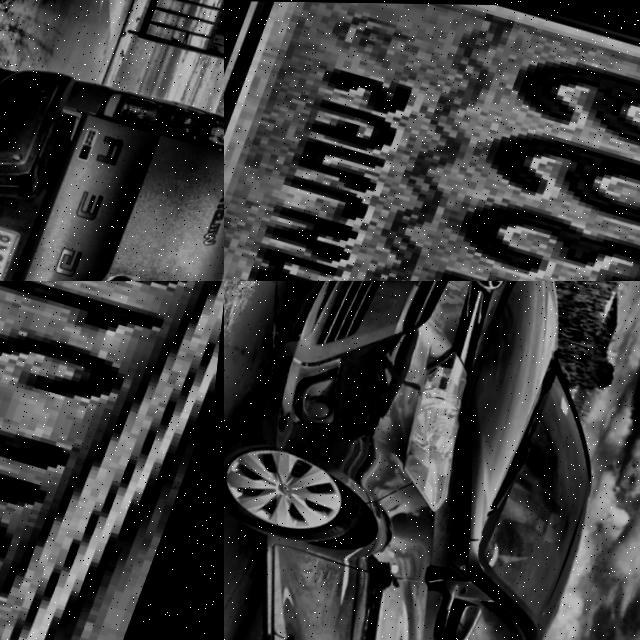license-plate: (224, 0, 640, 281), (0, 210, 34, 281)
